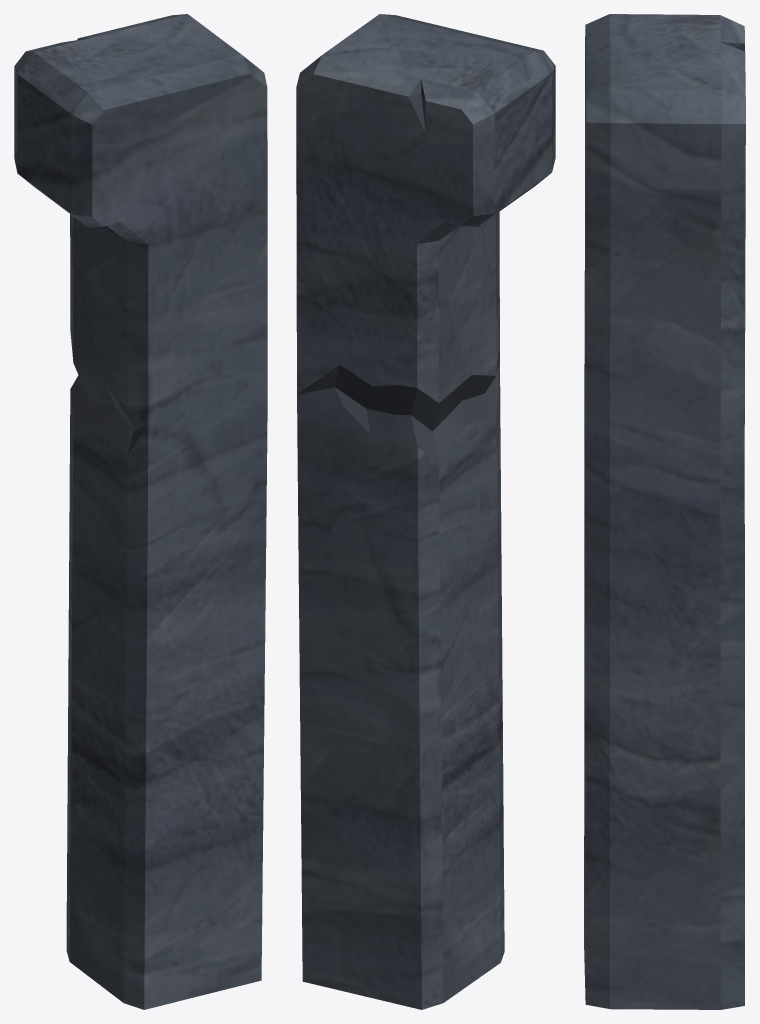
File: StandColumn06.glb
3 renders of one model, left to right at view 1: azimuth 30°, elevation 25°; view 2: azimuth 150°, elevation 25°; view 3: azimuth 270°, elevation 25°, orthographic.
Visible parts, largest first — view 1: StandColumn06; view 2: StandColumn06; view 3: StandColumn06.
Boxes of the visible parts, x1,y1,x2,y2 form: StandColumn06: (14, 14, 267, 1009); StandColumn06: (296, 14, 555, 1009); StandColumn06: (584, 14, 745, 1009).
Size of what is drawn, in the model's own units: 2.53 by 11.39 by 1.83.
Materials: 1 (1 with a texture image).
